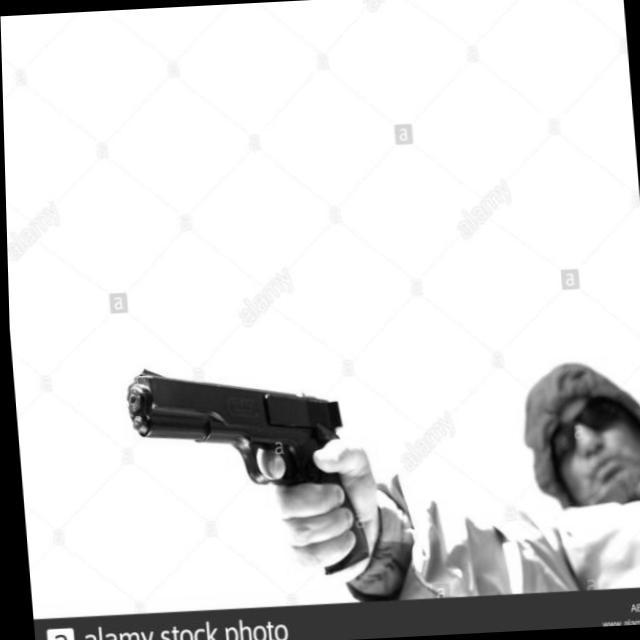weapon: (122, 356, 368, 584)
